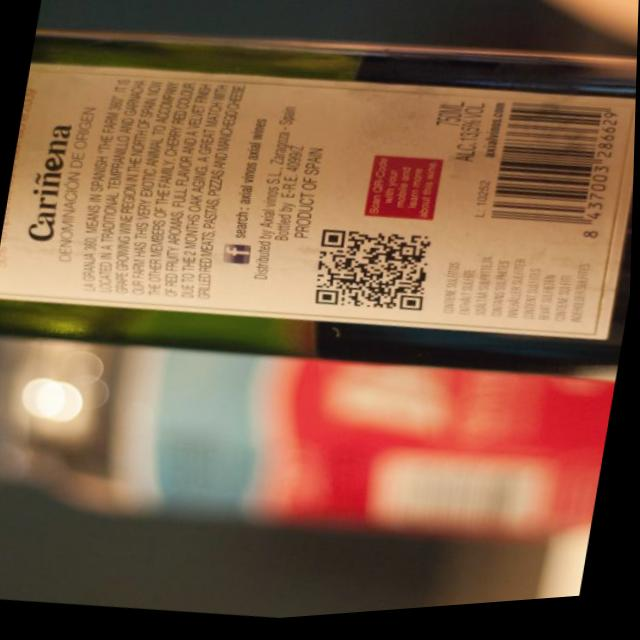qrcode: (314, 228, 437, 324)
